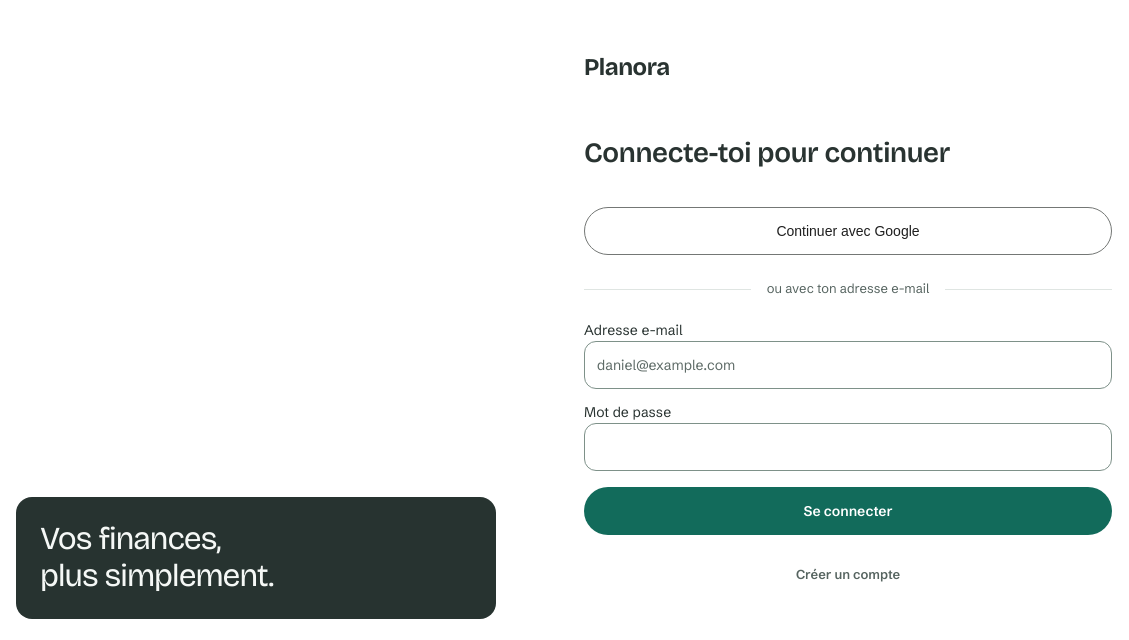
Test: propose le même parcours pour l’inscription
The image size is (1129, 640).
Step 1. Click the button "Créer un compte" → (848, 575), box [584, 551, 1112, 599]
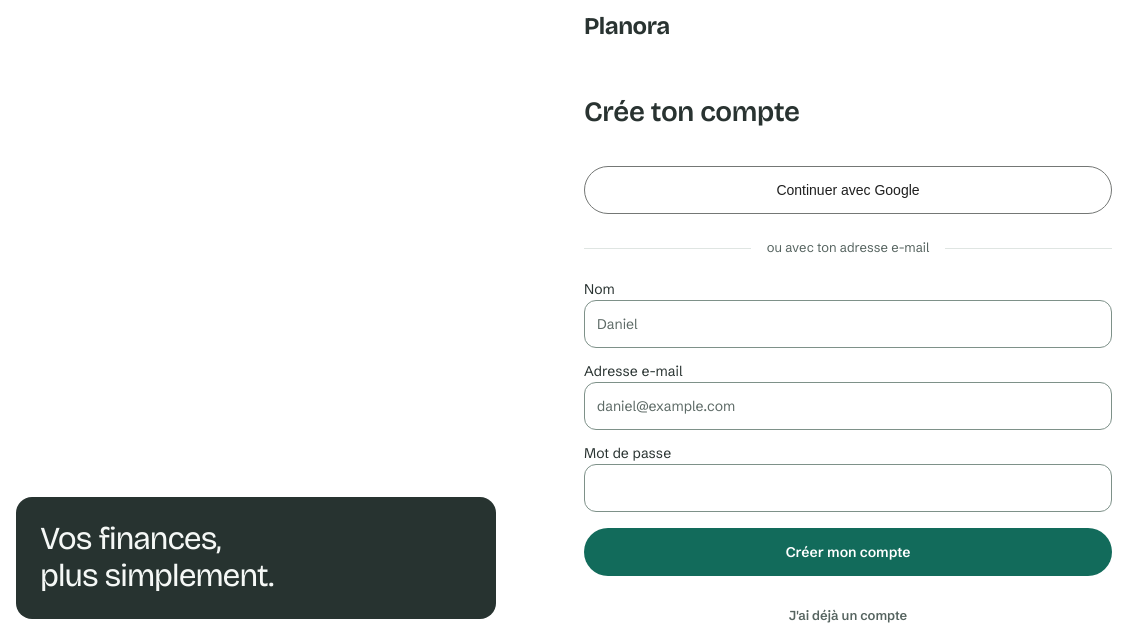
Check: the button "Continuer avec Google" is shown, box [584, 166, 1112, 214]
Check: the heading "Crée ton compte" is shown, box [584, 94, 800, 130]
